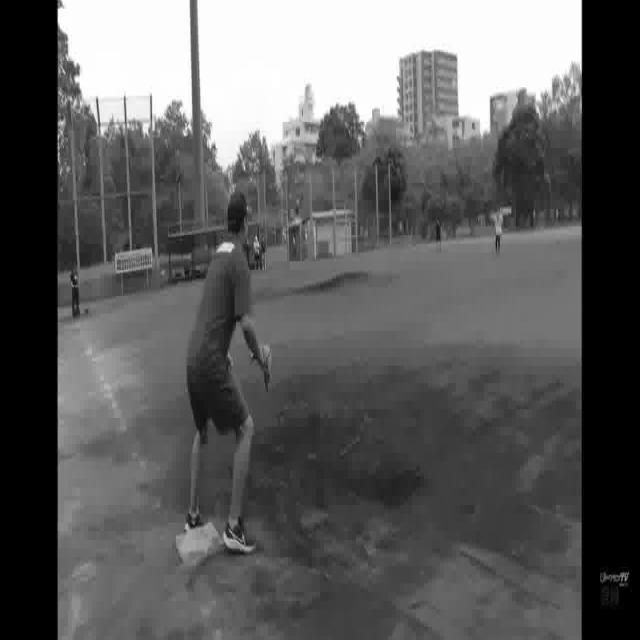base: (172, 519, 222, 571)
baseball_glove: (250, 341, 278, 391)
shoe: (221, 522, 258, 556), (185, 504, 212, 534)
